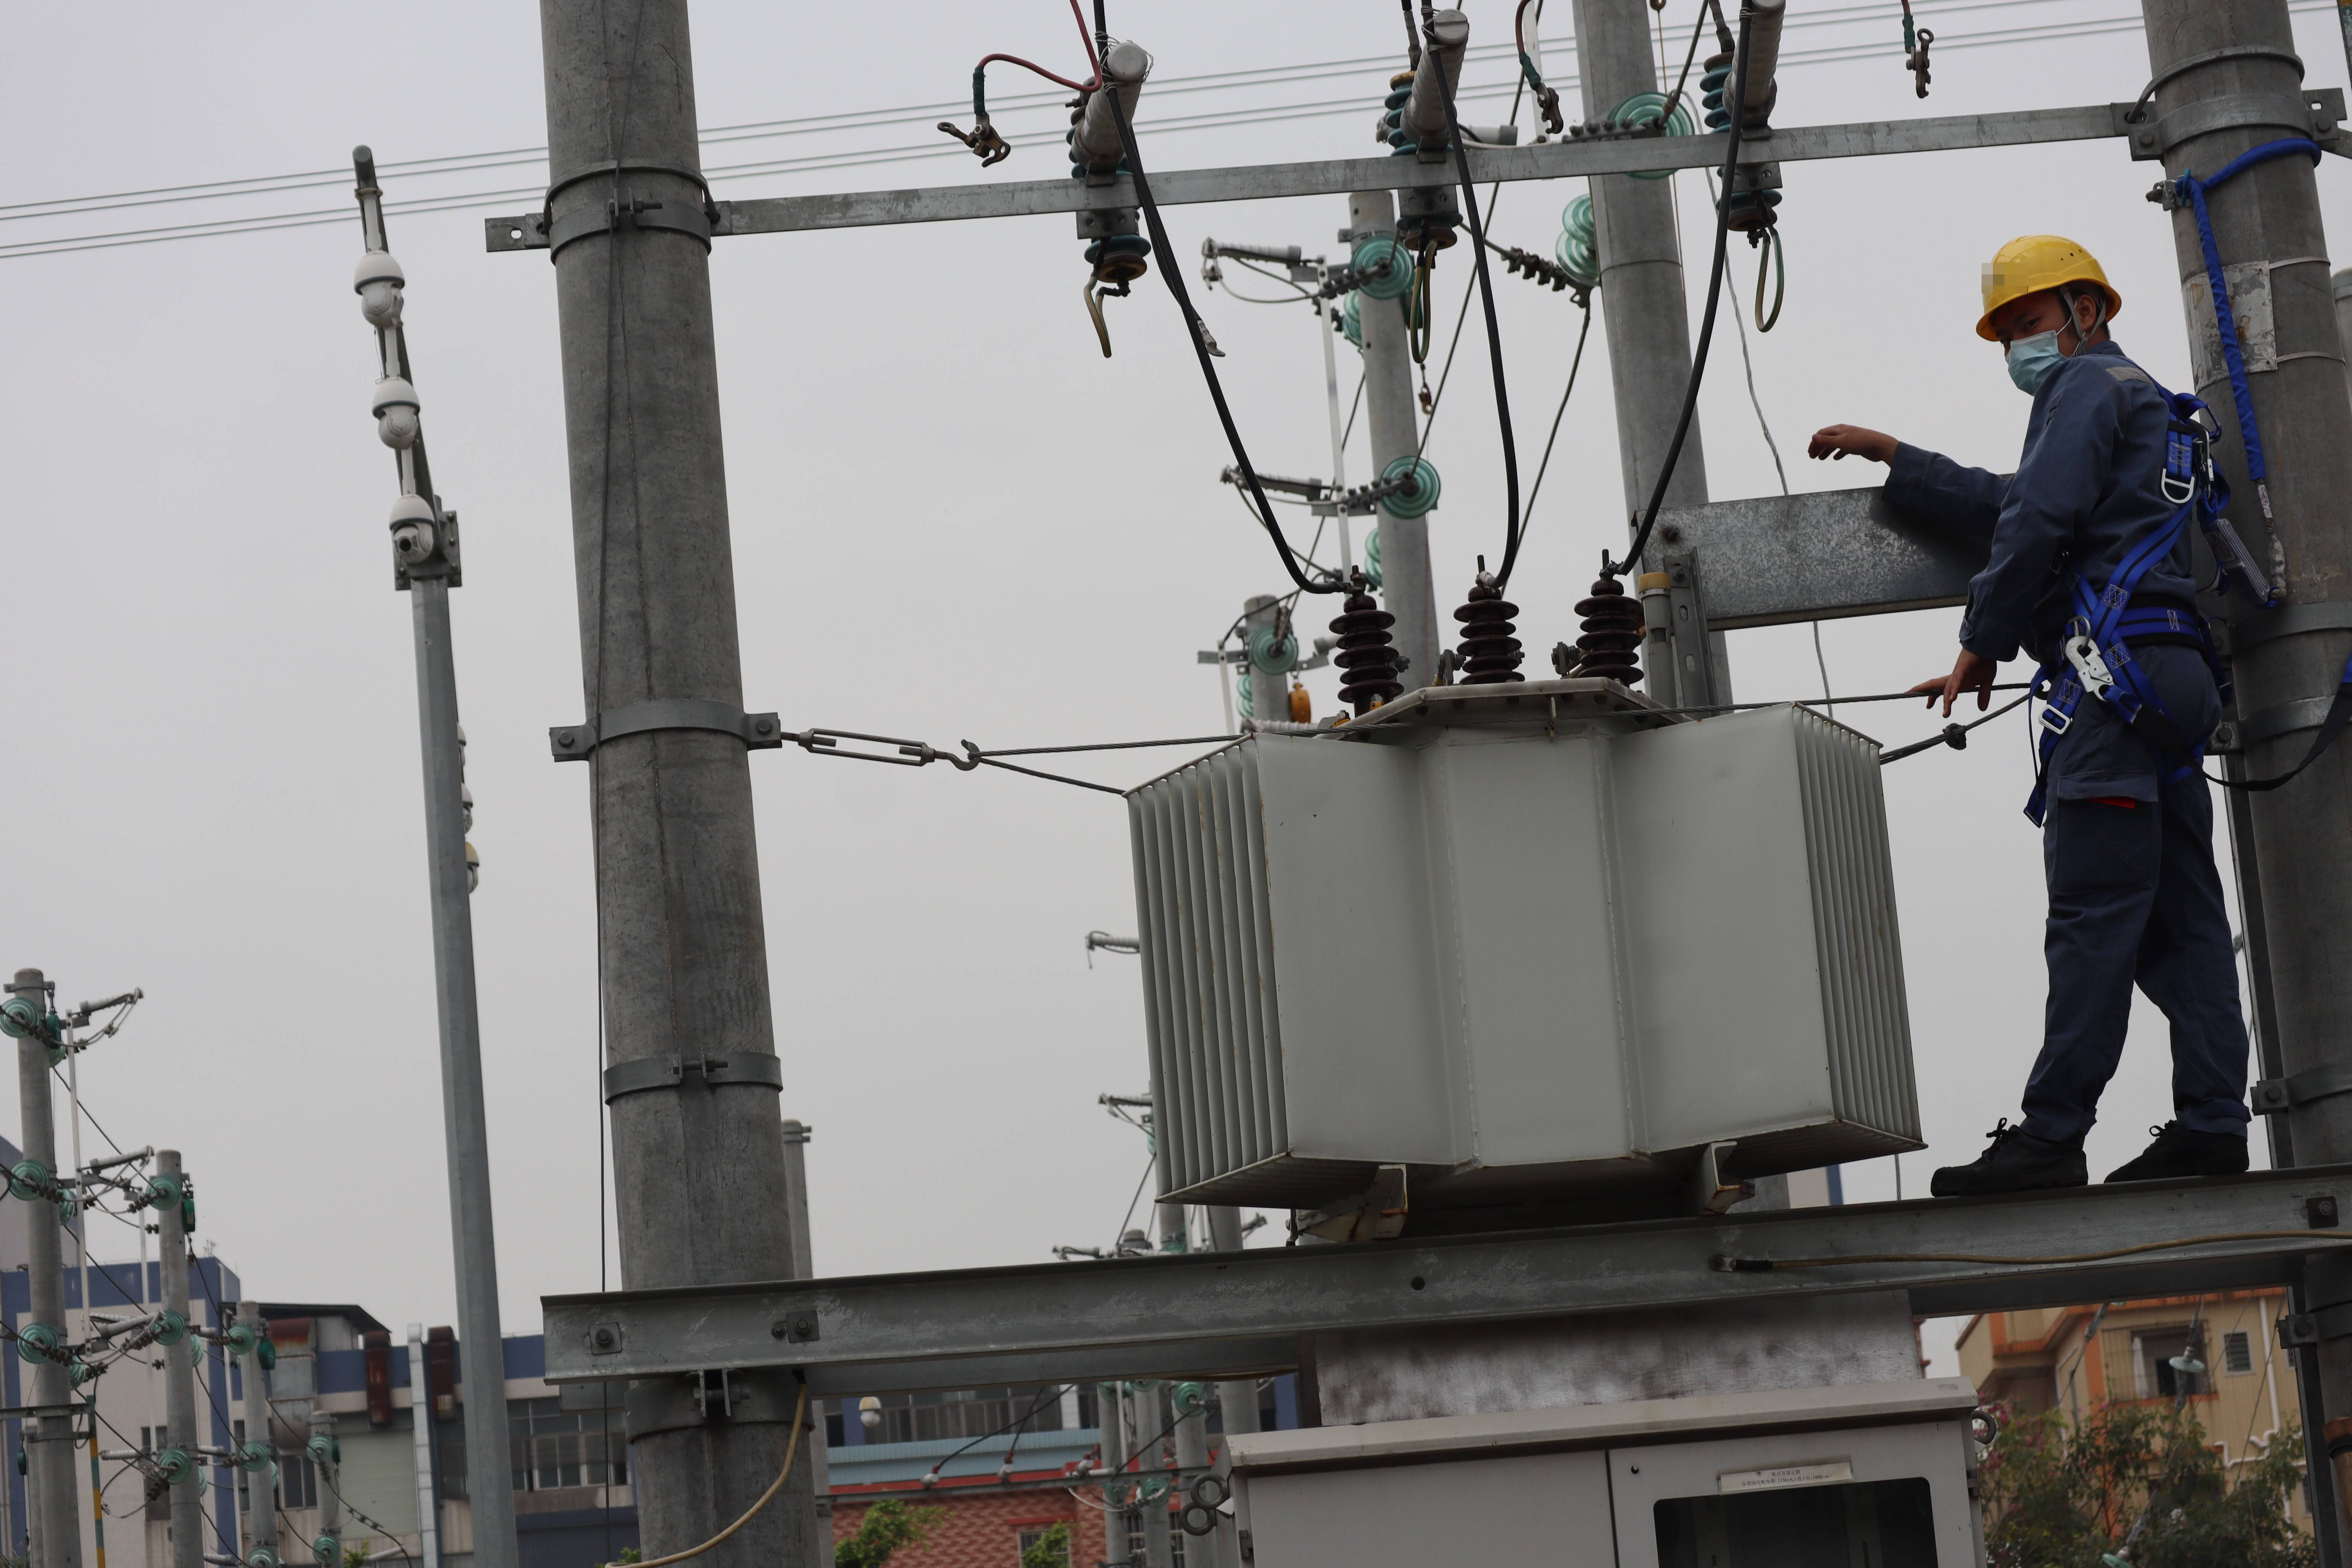downsuit: (2025, 688, 2250, 1120)
upsuit: (1988, 354, 2205, 661)
